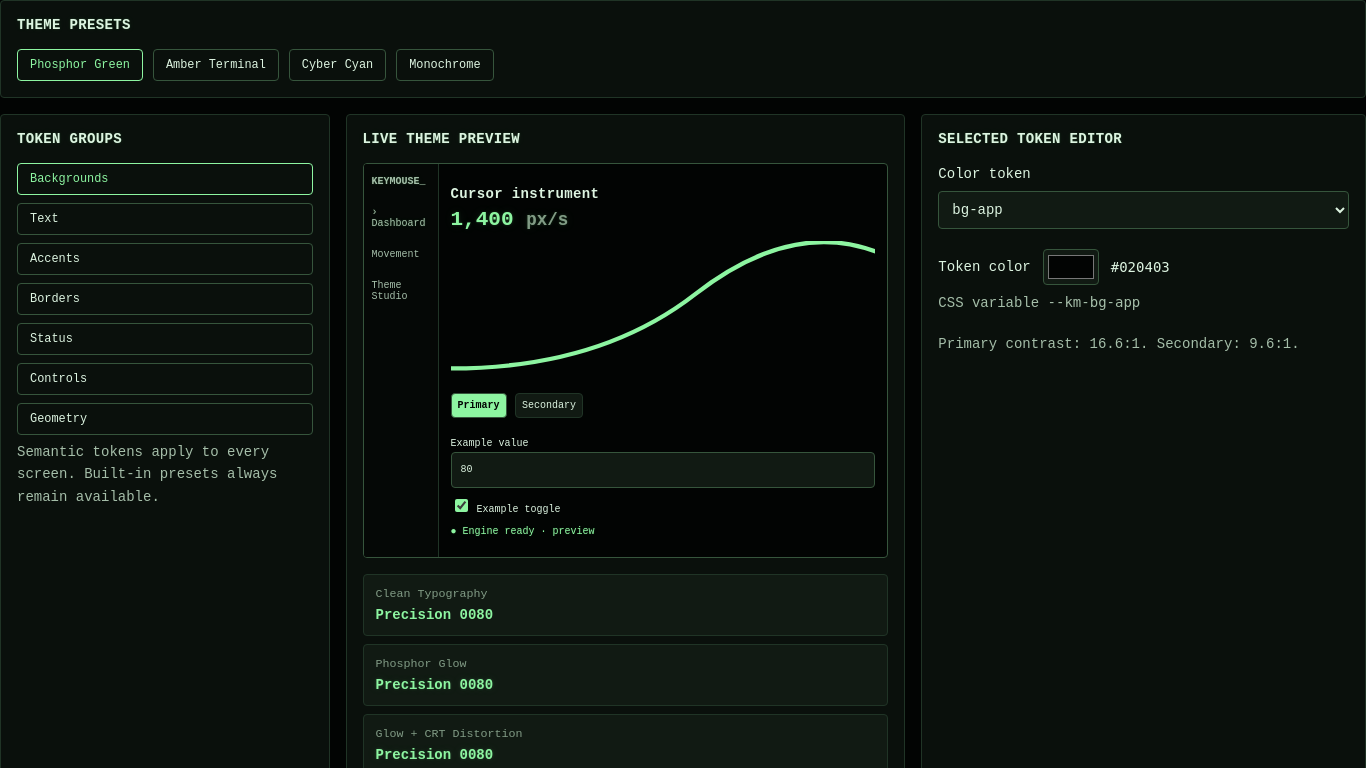
it: Theme Studio behavior › broadcasts accepted settings to other window providers and ignores stale events
Click the button "Amber Terminal": point(216, 65) [153,49,279,81]
(page scrolled)
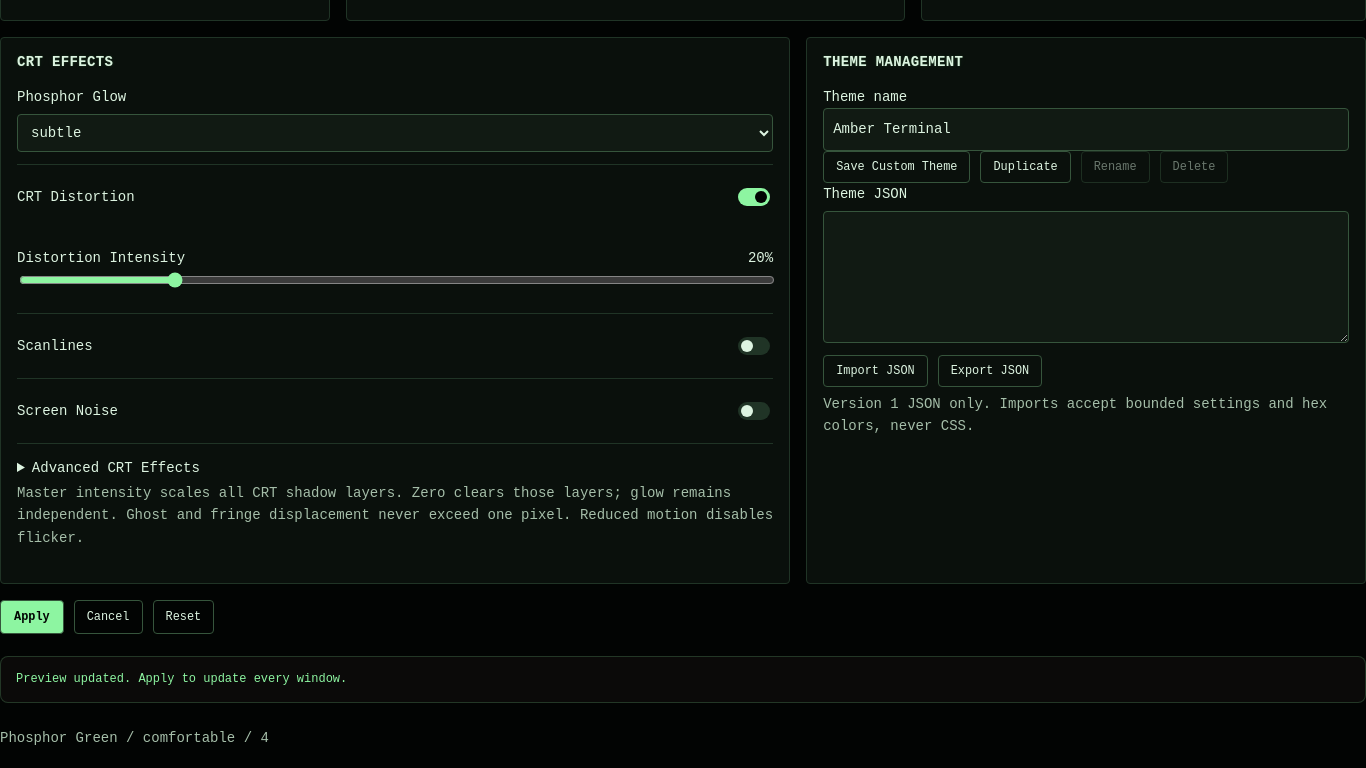
Click the button "Apply": point(32, 617) [0,600,64,634]
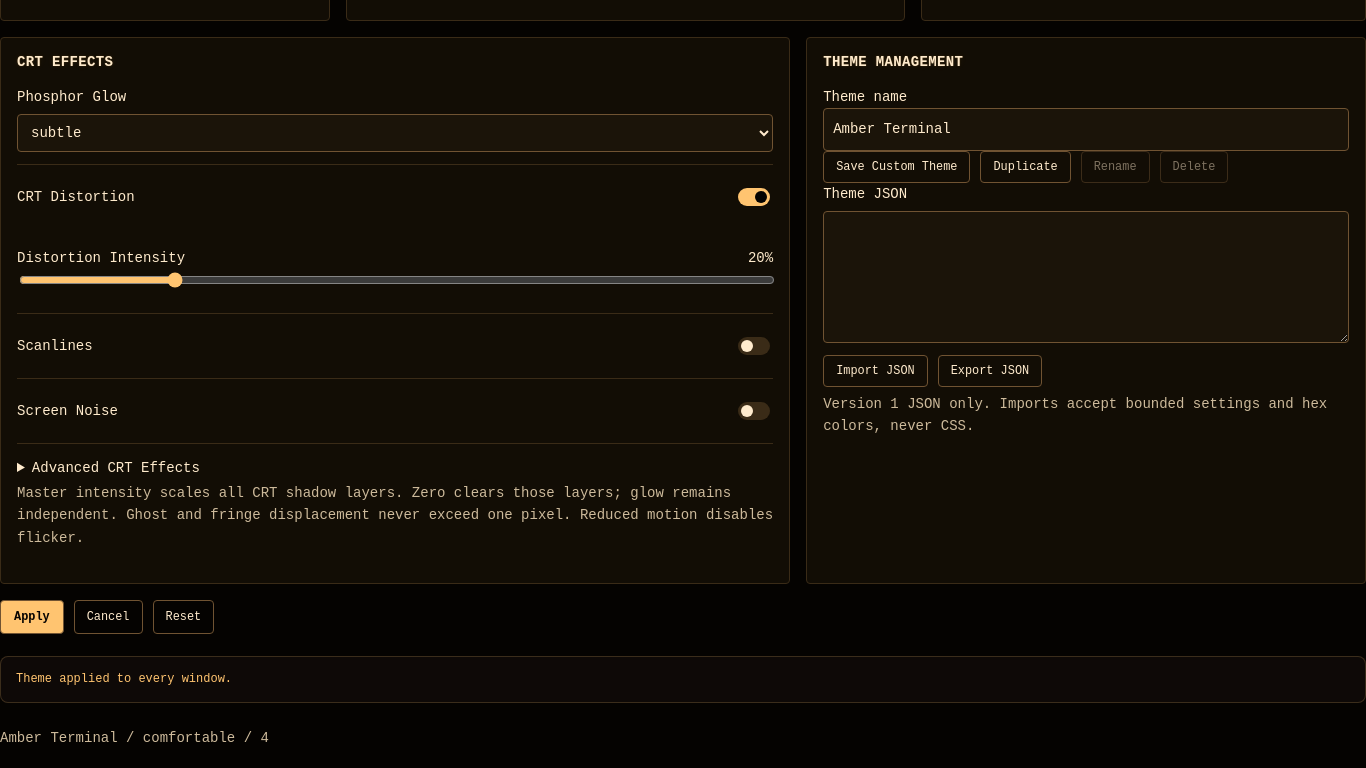
Result: the text "Amber Terminal / comfortable / 4" is shown at [0,730,269,746]
